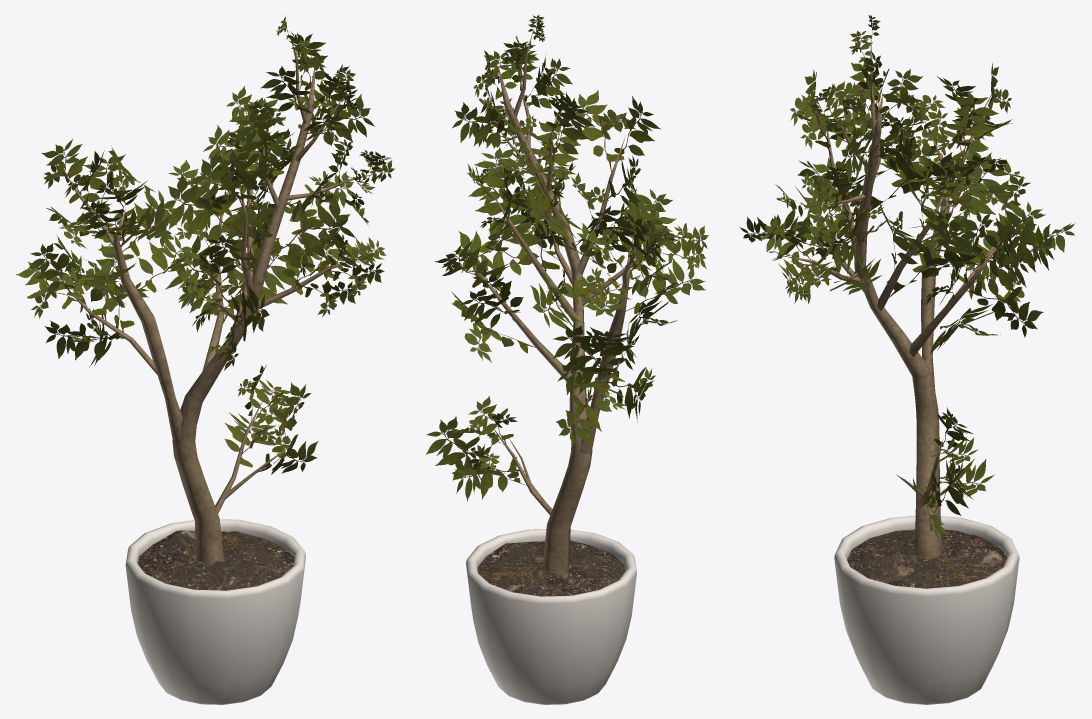
File: Plants.fbx
3 renders of one model, left to right at view 1: azimuth 30°, elevation 25°; view 2: azimuth 150°, elevation 25°; view 3: azimuth 270°, elevation 25°, orthographic. The views are drawn at different scales.
Visible parts, largest first — view 1: Plants; view 2: Plants; view 3: Plants.
Boxes of the visible parts, x1,y1,x2,y2 form: Plants: (16, 15, 394, 704); Plants: (426, 14, 708, 704); Plants: (739, 15, 1075, 704).
Bounding box in the file's own units: 1.73 × 3.92 × 1.75.
